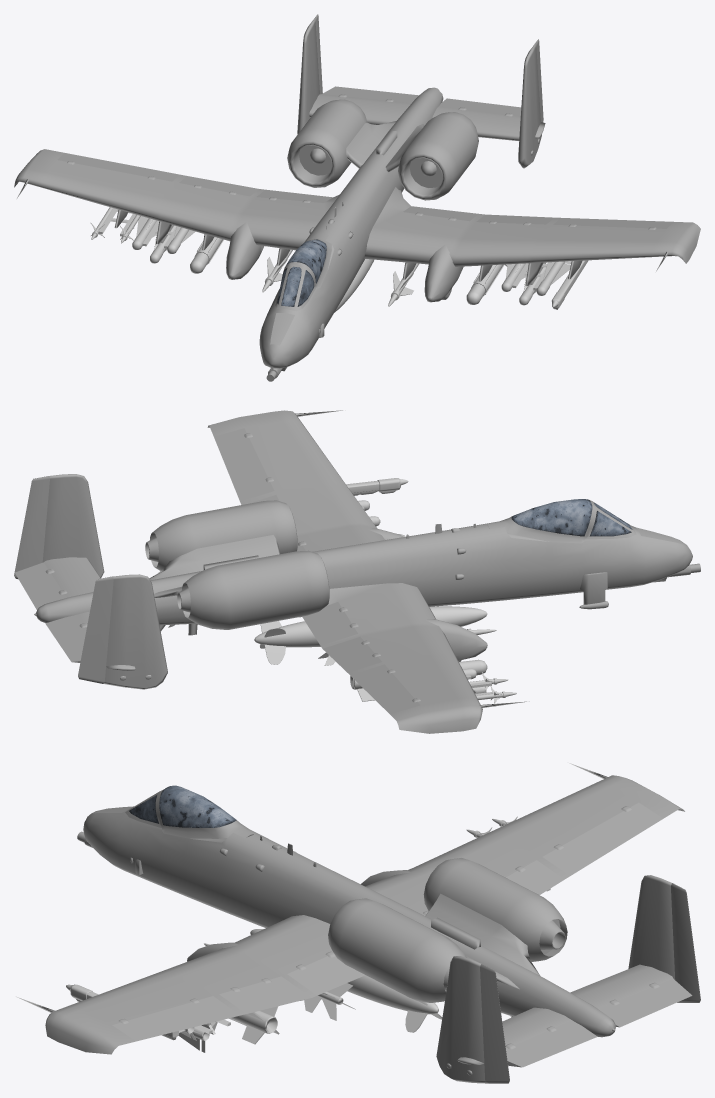
3 renders of one model, top to bottom at view 1: azimuth 30°, elevation 25°; view 2: azimuth 150°, elevation 25°; view 3: azimuth 270°, elevation 25°, orthographic. The views are drawn at different scales.
Parts seen in each view (by area): view 1: Thunderbolt_A10A:polySurface2, thunder_01:thunder_01:polySurface471, thunder_01:thunder_01:vitres:polySurface14; view 2: Thunderbolt_A10A:polySurface2, thunder_01:thunder_01:polySurface471, thunder_01:thunder_01:vitres:polySurface14; view 3: Thunderbolt_A10A:polySurface2, thunder_01:thunder_01:polySurface471, thunder_01:thunder_01:vitres:polySurface14.
Part boxes in pixels (bbox=[...]): Thunderbolt_A10A:polySurface2: bbox=[14, 14, 700, 381]; thunder_01:thunder_01:polySurface471: bbox=[90, 207, 588, 312]; thunder_01:thunder_01:vitres:polySurface14: bbox=[277, 239, 326, 306]; Thunderbolt_A10A:polySurface2: bbox=[14, 410, 700, 733]; thunder_01:thunder_01:polySurface471: bbox=[254, 478, 516, 703]; thunder_01:thunder_01:vitres:polySurface14: bbox=[511, 499, 632, 536]; Thunderbolt_A10A:polySurface2: bbox=[16, 763, 700, 1083]; thunder_01:thunder_01:polySurface471: bbox=[66, 816, 550, 1052]; thunder_01:thunder_01:vitres:polySurface14: bbox=[129, 785, 236, 827].
Size of the model in its own units: 14.61 by 3.91 by 14.61.
